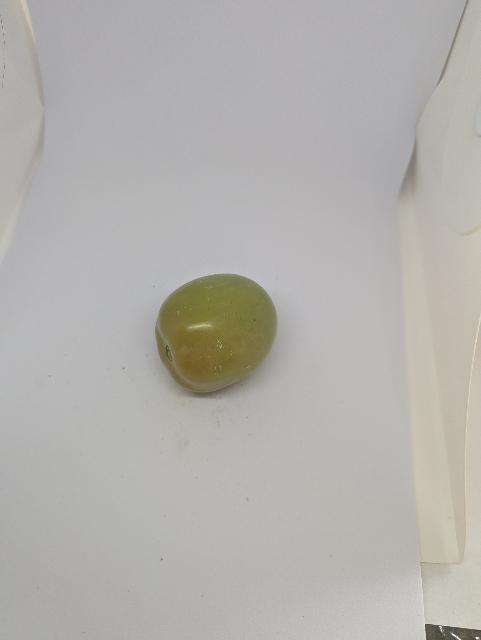breaker: (151, 273, 284, 399)
